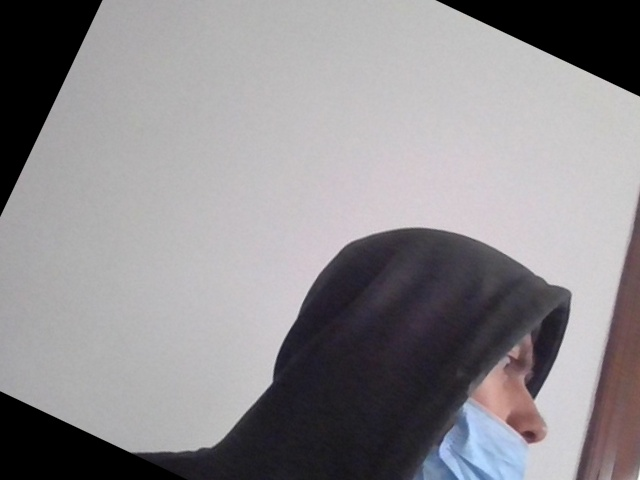mask_weared_incorrect: (416, 295, 571, 480)
